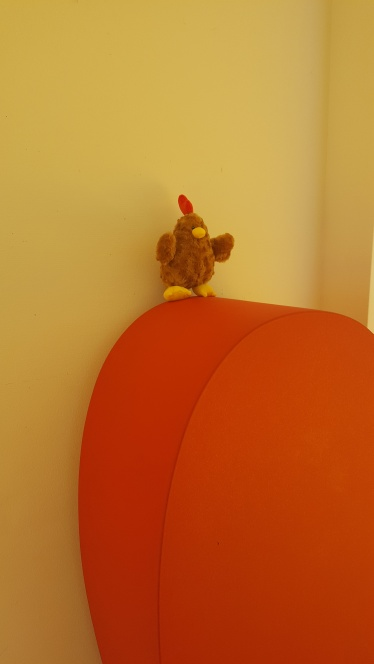chicken_front: (157, 193, 233, 301)
